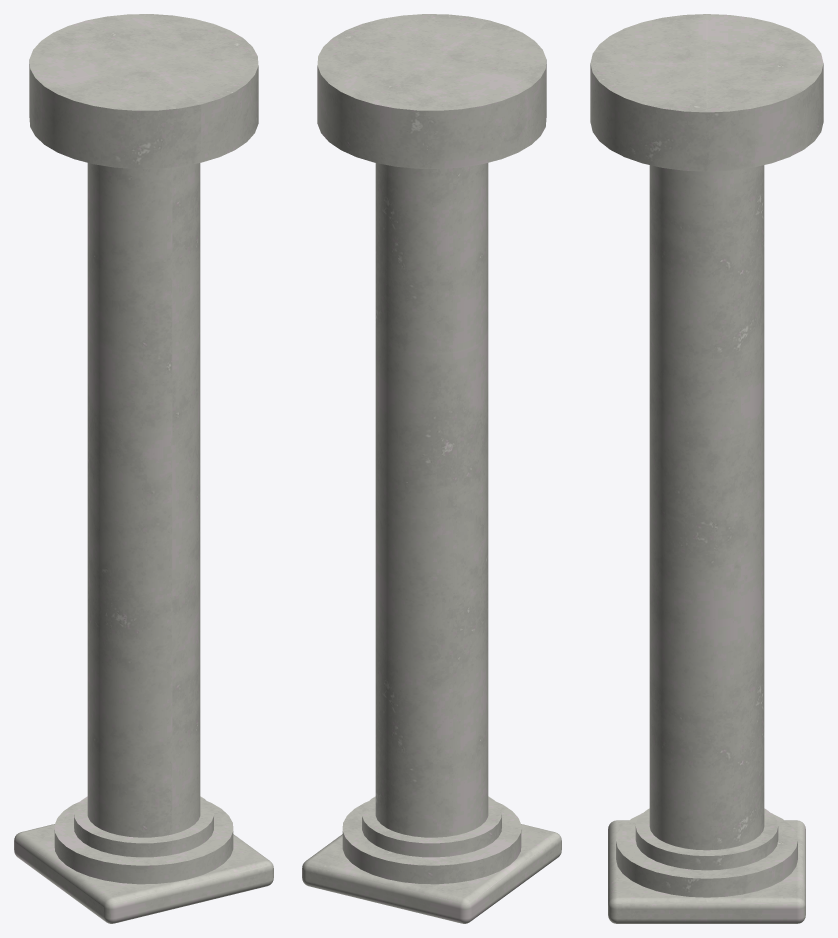
3 renders of one model, left to right at view 1: azimuth 30°, elevation 25°; view 2: azimuth 150°, elevation 25°; view 3: azimuth 270°, elevation 25°, orthographic.
Parts seen in each view (by area): view 1: column_bake; view 2: column_bake; view 3: column_bake.
Part boxes in pixels (<box>): column_bake: <box>14,14,273,923</box>; column_bake: <box>302,14,561,923</box>; column_bake: <box>590,14,823,923</box>.
Size of what is drawn, in the model's own units: 0.6424 by 2.5 by 0.6424.
1 material, 1 textured.
